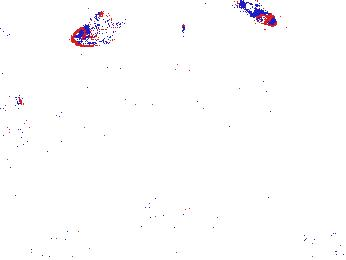X-ray fish: (69, 17, 127, 49)
red belly glassfish: (237, 1, 279, 29), (283, 19, 316, 44)
